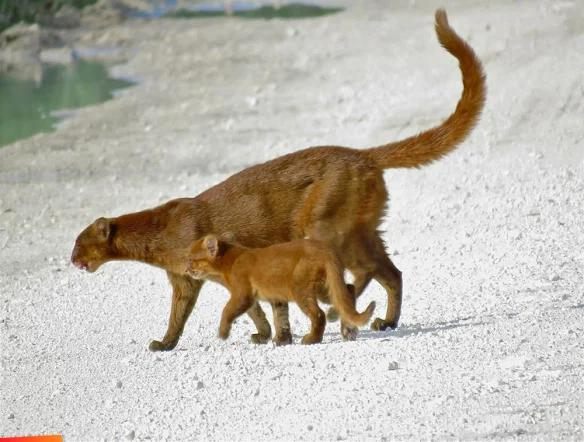Jaguarundi: (48, 8, 502, 359), (177, 230, 383, 348)
